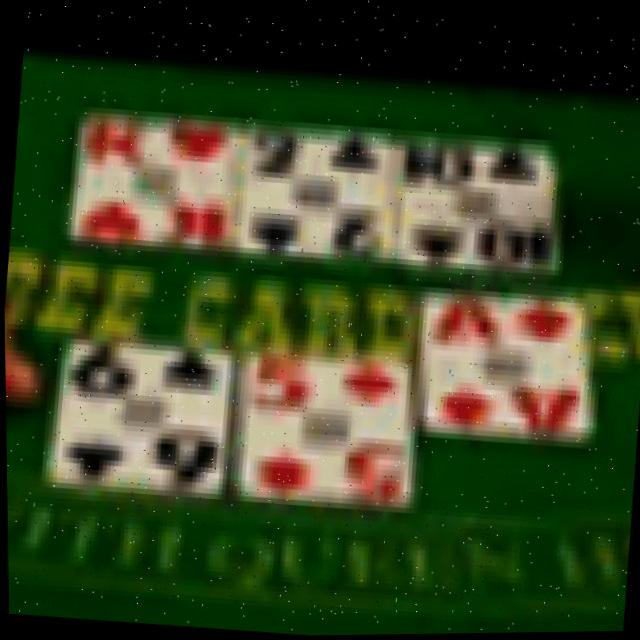Card-10: (390, 132, 553, 266)
Card-2: (232, 121, 395, 258)
Card-5: (241, 344, 408, 513)
Card-6: (50, 330, 232, 498)
Card-A: (425, 294, 587, 444)
Card-K: (71, 111, 242, 251)
